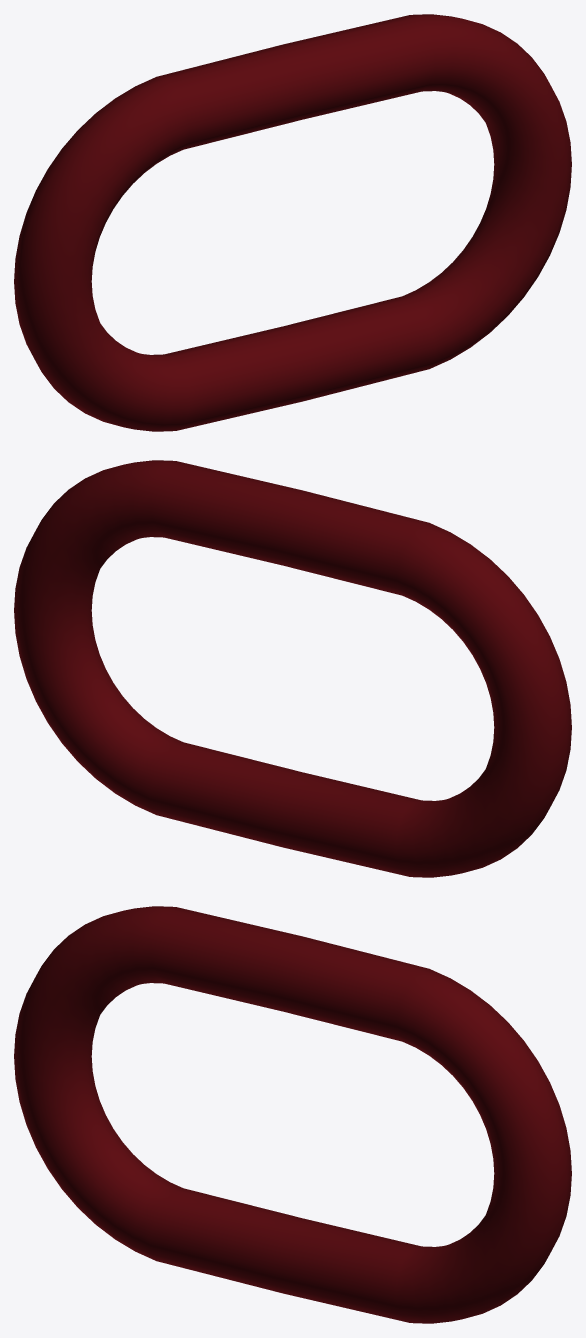
Rendered from Chain.gltf.
The picture shows the model from 3 angles, top to bottom: view 1: azimuth 30°, elevation 25°; view 2: azimuth 150°, elevation 25°; view 3: azimuth 330°, elevation 25°; orthographic projection.
Visible parts, largest first — view 1: chain; view 2: chain; view 3: chain.
Boxes of the visible parts, x1,y1,x2,y2 form: chain: (14,14,571,431); chain: (14,460,571,877); chain: (14,906,571,1323).
Bounding box in the file's own units: 0.1659 × 0.102 × 0.0204.
